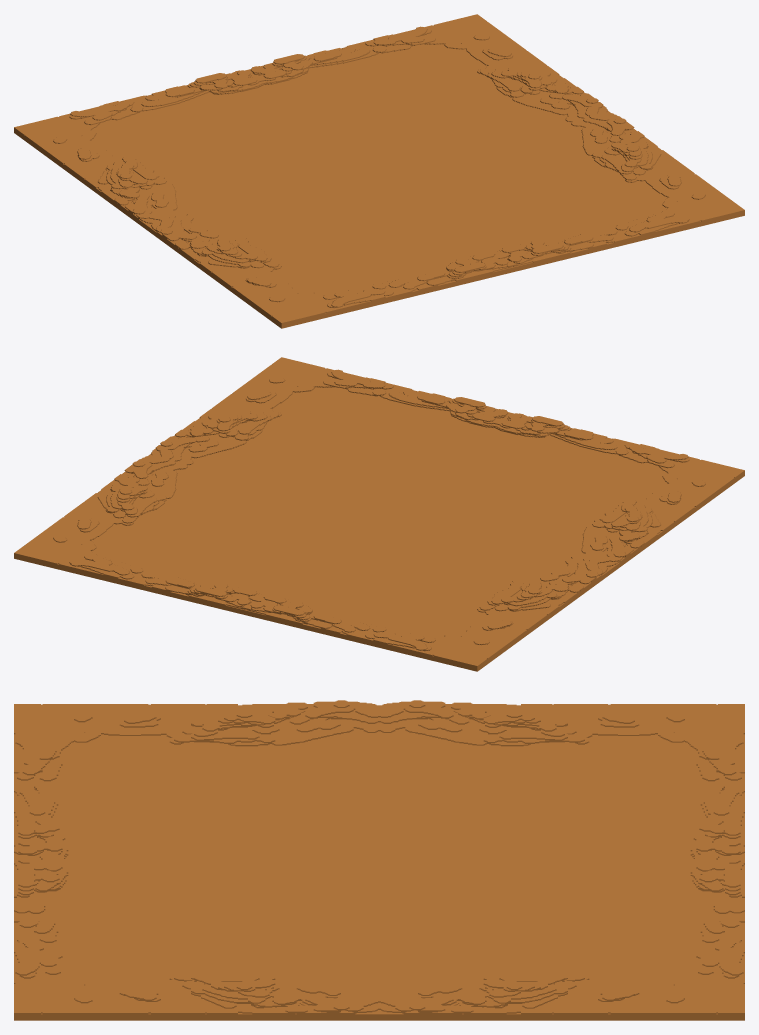
Rendered from Full_land.obj.
3 renders of one model, top to bottom at view 1: azimuth 30°, elevation 25°; view 2: azimuth 150°, elevation 25°; view 3: azimuth 270°, elevation 25°, orthographic. The views are drawn at different scales.
Visible parts, largest first — view 1: Untitled.003; view 2: Untitled.003; view 3: Untitled.003.
Part boxes in pixels (left/top/right/bottom): Untitled.003: left=14, top=14, right=744, bottom=328; Untitled.003: left=14, top=357, right=744, bottom=671; Untitled.003: left=14, top=700, right=744, bottom=1020.
Bounding box in the file's own units: 51.2 × 1.3 × 51.2.
4 materials, 4 textured.
